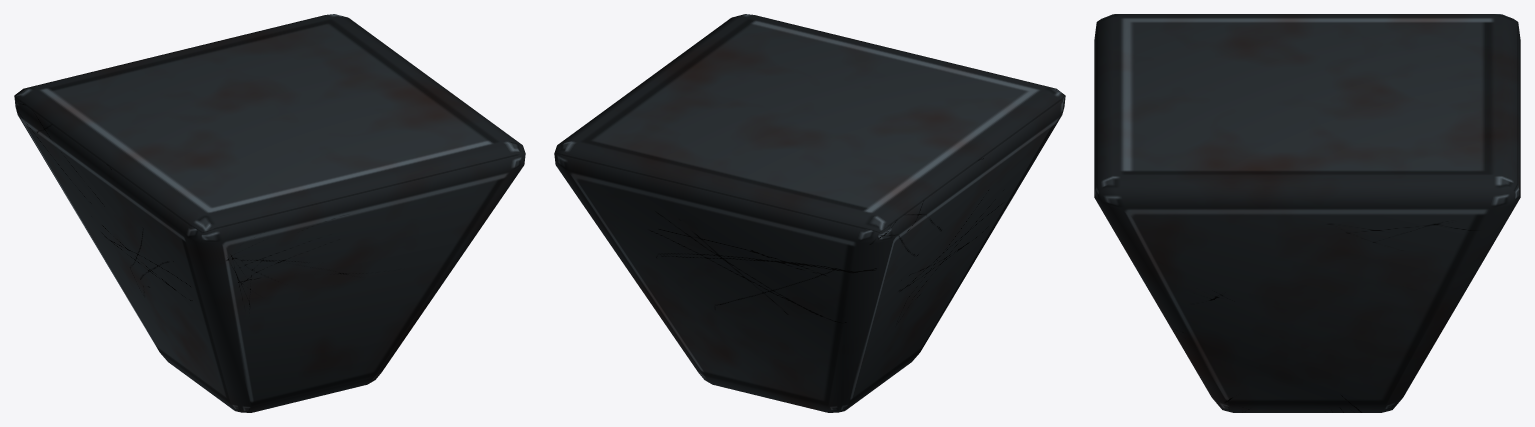
File: Plataforma_Fab.fbx
3 renders of one model, left to right at view 1: azimuth 30°, elevation 25°; view 2: azimuth 150°, elevation 25°; view 3: azimuth 270°, elevation 25°, orthographic. The views are drawn at different scales.
Parts seen in each view (by area): view 1: Plataforma; view 2: Plataforma; view 3: Plataforma.
Boxes of the visible parts, x1,y1,x2,y2 form: Plataforma: (14,14,525,412); Plataforma: (554,14,1065,412); Plataforma: (1094,14,1520,412).
Size of the model in its own units: 330 by 243 by 330.
